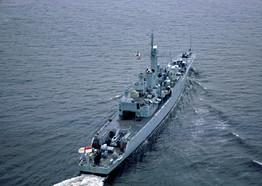warship: (75, 32, 195, 176)
